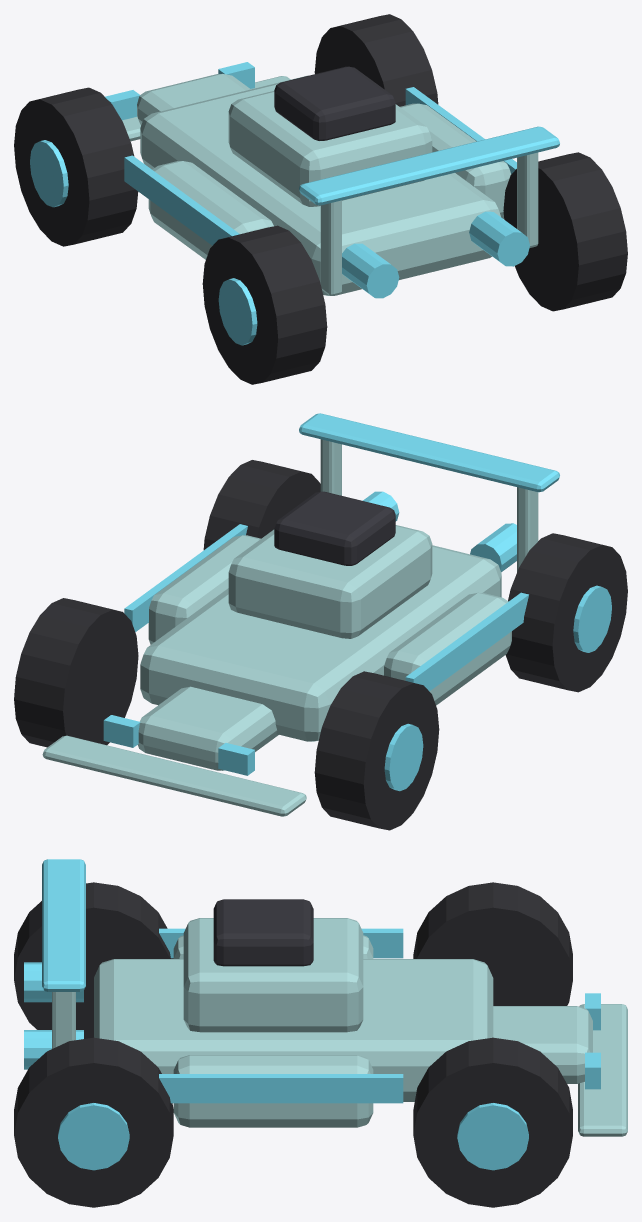
Rendered from Kart_Neon_01.fbx.
3 views of the same model, one above another, from view 1: azimuth 30°, elevation 25°; view 2: azimuth 150°, elevation 25°; view 3: azimuth 270°, elevation 25° (orthographic). The views are drawn at different scales.
Visible parts, largest first — view 1: Chassis, Wheel_3, Wheel_1, Wheel_2, Cockpit, Wheel_0, RearWing, Seat, PodRight, StripRight, PodLeft, Nose (+10 smaller); view 2: Chassis, Cockpit, Wheel_0, Wheel_2, Wheel_3, Nose, FrontWing, RearWing, Seat, Wheel_1, PodRight, PodLeft (+9 smaller); view 3: Chassis, Wheel_0, Wheel_1, Cockpit, Wheel_2, Wheel_3, PodLeft, StripLeft, Seat, RearWing, Nose, FrontWing (+7 smaller).
Boxes of the visible parts, x1,y1,x2,y2 form: Chassis: (140, 75, 500, 295); Wheel_3: (202, 225, 327, 384); Wheel_1: (503, 152, 627, 311); Wheel_2: (14, 87, 138, 246); Cockpit: (228, 91, 432, 206); Wheel_0: (314, 14, 438, 106); RearWing: (299, 126, 559, 205); Seat: (274, 66, 395, 140); PodRight: (148, 161, 273, 259); StripRight: (124, 155, 239, 245); PodLeft: (400, 103, 511, 218); Nose: (137, 73, 250, 125); Chassis: (140, 545, 501, 741); Cockpit: (228, 525, 432, 638); Wheel_0: (14, 598, 138, 747); Wheel_2: (314, 671, 439, 830); Wheel_3: (505, 533, 627, 692); Nose: (138, 686, 278, 770); FrontWing: (42, 735, 306, 816); RearWing: (299, 413, 559, 492); Seat: (274, 491, 395, 565); Wheel_1: (203, 460, 320, 549); PodRight: (384, 592, 511, 705); PodLeft: (148, 535, 260, 644); Chassis: (94, 959, 493, 1101); Wheel_0: (413, 1037, 572, 1207); Wheel_1: (14, 1037, 173, 1207); Cockpit: (183, 918, 363, 1032); Wheel_2: (413, 882, 572, 1005); Wheel_3: (14, 882, 173, 1038); PodLeft: (173, 1055, 373, 1127); StripLeft: (159, 1074, 403, 1103); Seat: (213, 899, 313, 966); RearWing: (42, 859, 85, 991); Nose: (493, 1006, 592, 1083); FrontWing: (578, 1004, 627, 1136).
Bounding box in the file's own units: 2.2 × 1.11 × 3.07.
